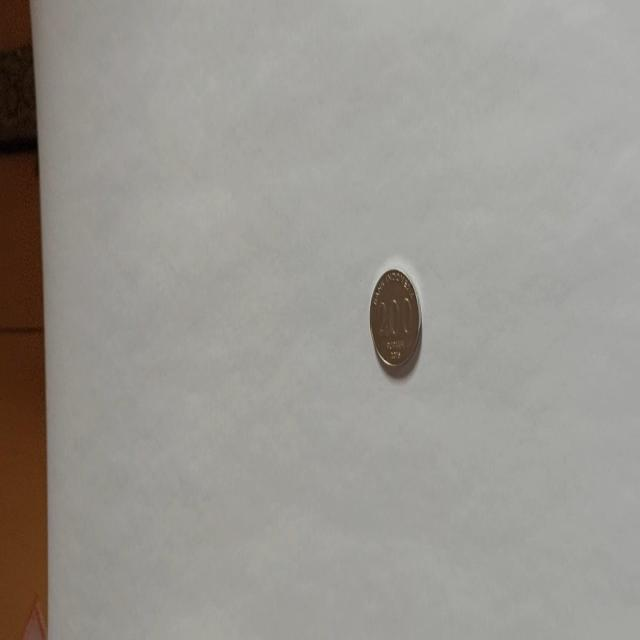dua ratus rupiah: (368, 266, 422, 372)
